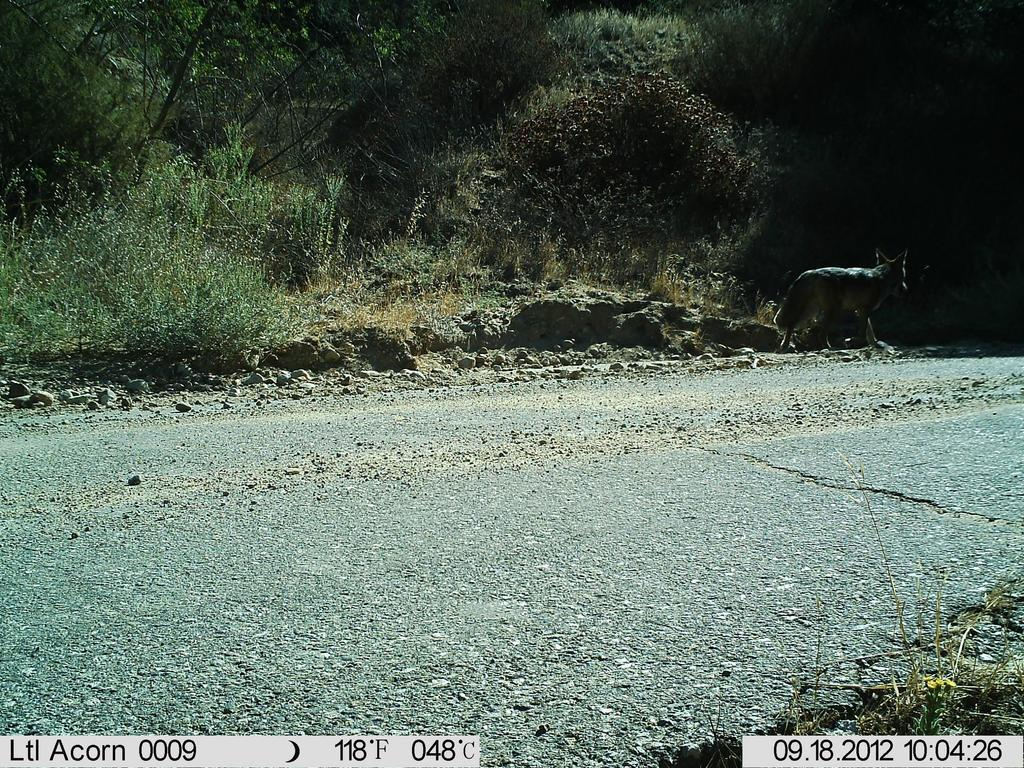coyote: (770, 241, 929, 363)
